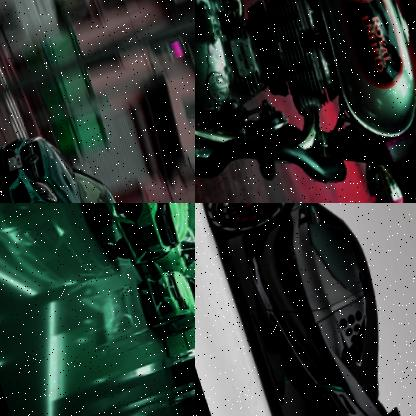bike: (195, 0, 416, 203)
car: (195, 203, 416, 416), (0, 117, 140, 203), (53, 203, 195, 283), (129, 261, 195, 349)
